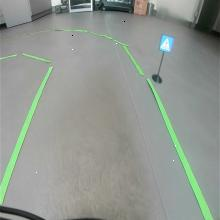crosswalk: (159, 34, 173, 54)
